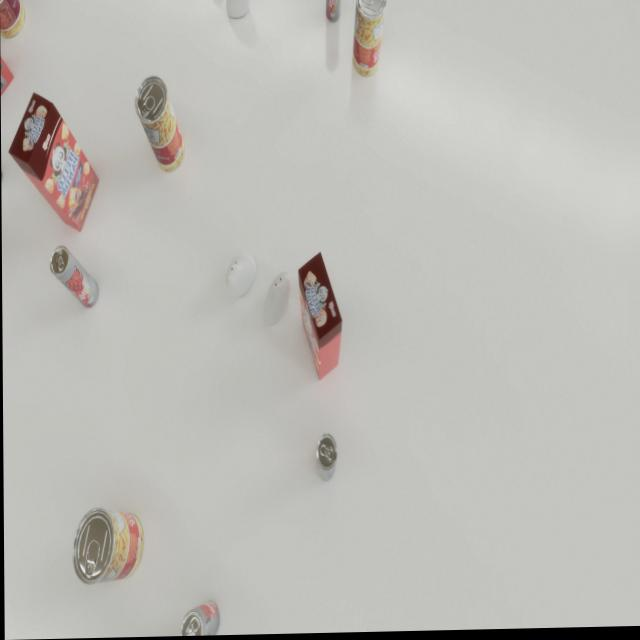HelloPanda: (8, 91, 99, 234), (298, 253, 342, 382)
Potato_sticks: (71, 507, 143, 586), (134, 76, 185, 174), (352, 0, 387, 79)
Rita_zero_sugar: (49, 245, 98, 309), (179, 601, 219, 637), (315, 435, 337, 483)
Salt: (262, 272, 292, 327), (225, 254, 256, 298)
